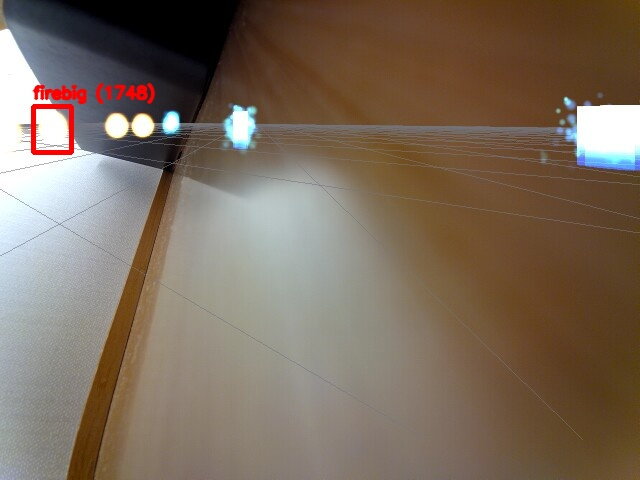firebig: (33, 106, 71, 152)
